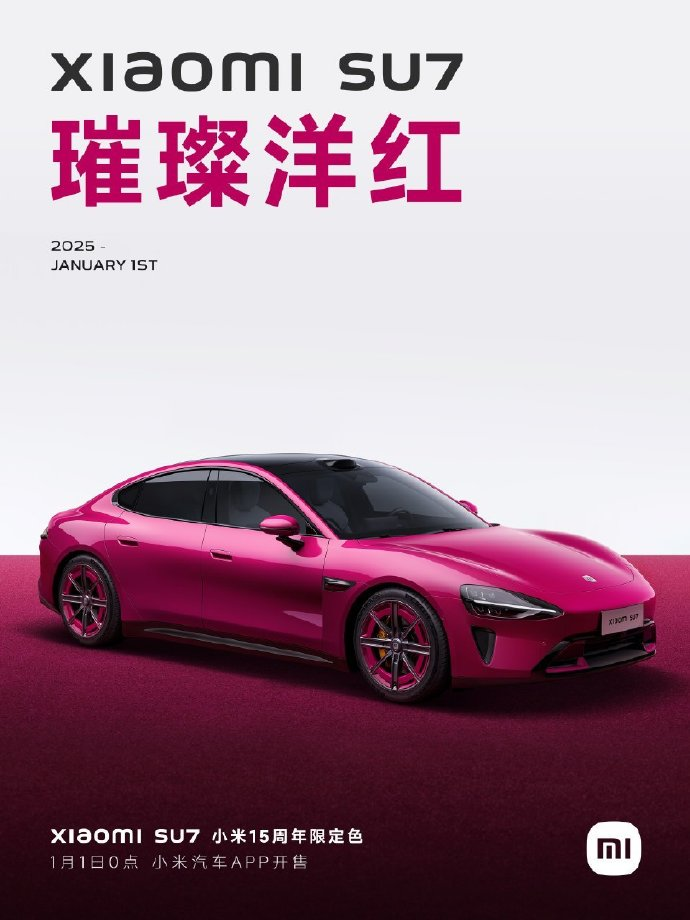su7: (30, 457, 656, 699)
